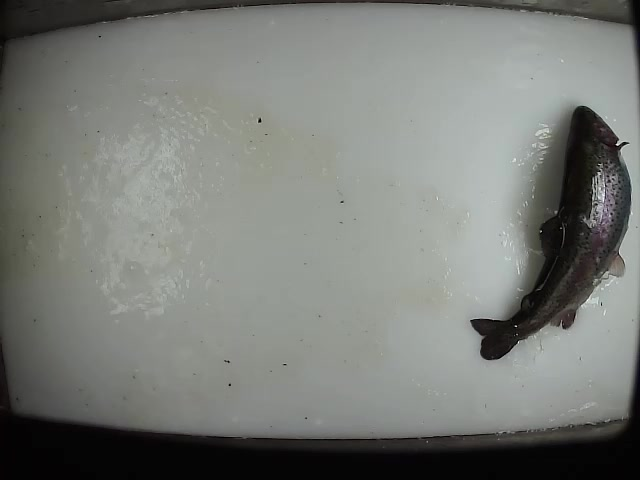fish: (468, 103, 633, 361)
